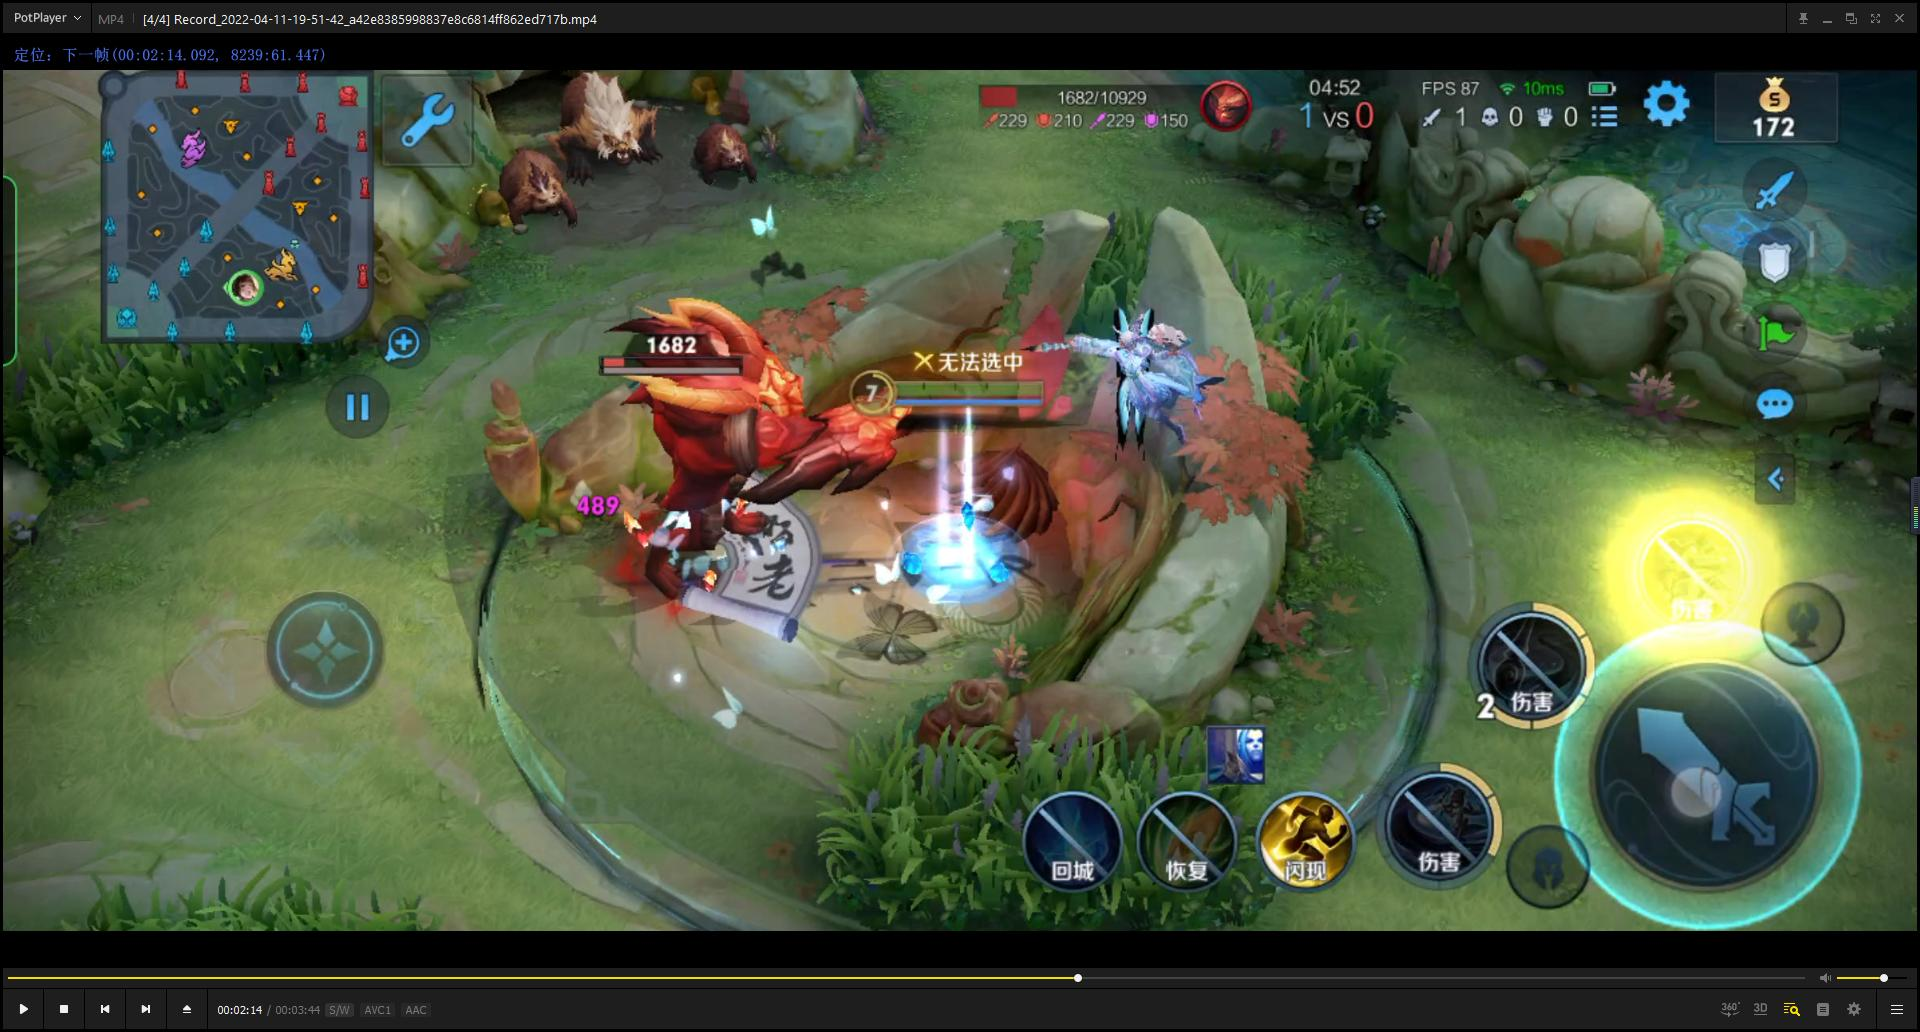Buff: (541, 290, 912, 652)
Hero: (840, 276, 1244, 663)
Pig: (473, 135, 582, 258), (551, 72, 668, 178), (686, 90, 769, 205)
